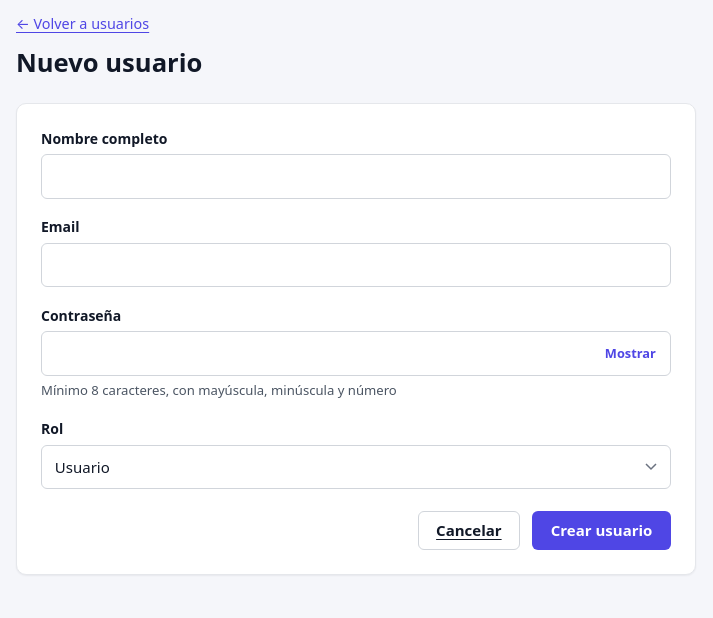
Test: UserFormView › muestra los errores por campo y el error general de la API
Type "Nuevo Usuario" into the field with test id "user-name".
click(356, 176); type("Nuevo Usuario")  # box x1=41 y1=154 x2=671 y2=198
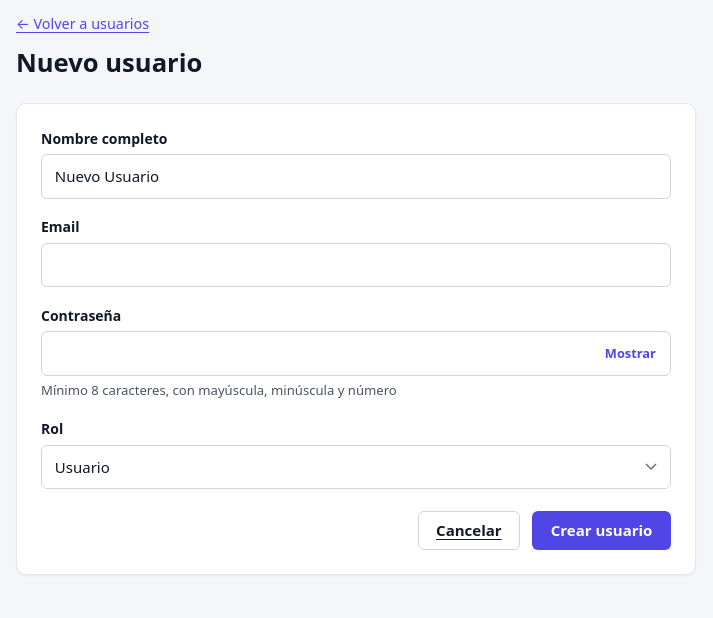
Type "ocupado@demo.com" into the field with test id "user-email".
click(356, 265); type("ocupado@demo.com")  # box x1=41 y1=243 x2=671 y2=287
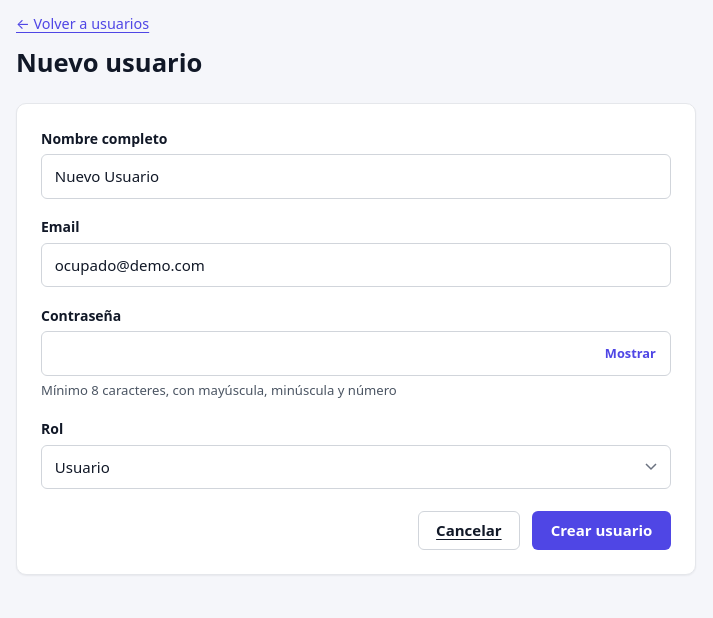
Type "Password123" into the password field with test id "user-password".
click(356, 353); type("Password123")  # box x1=41 y1=331 x2=671 y2=376
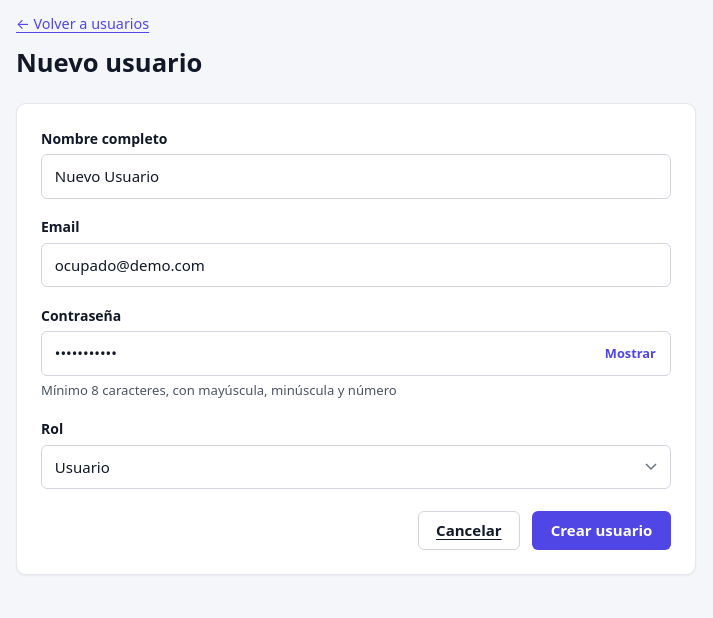
Submit the form with test id "user-form"
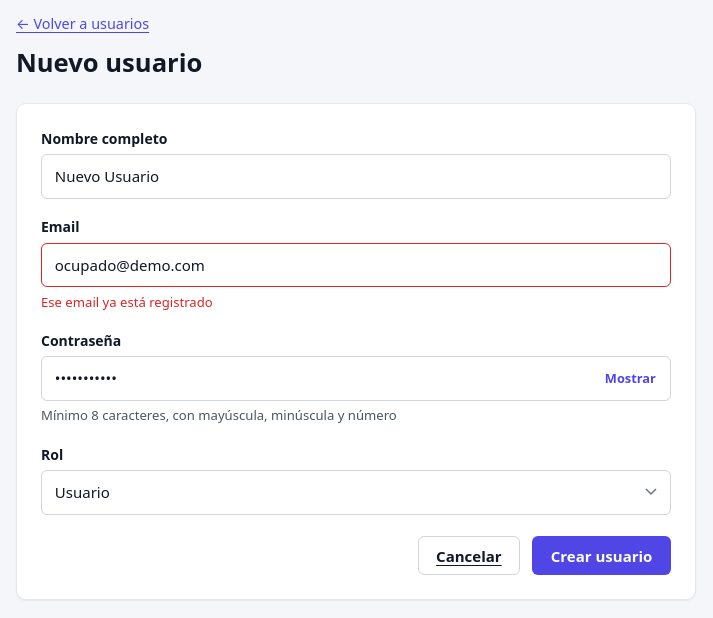
Check: the text with test id "user-email-error" reads "Ese email ya está registrado", box x1=41 y1=293 x2=213 y2=311
